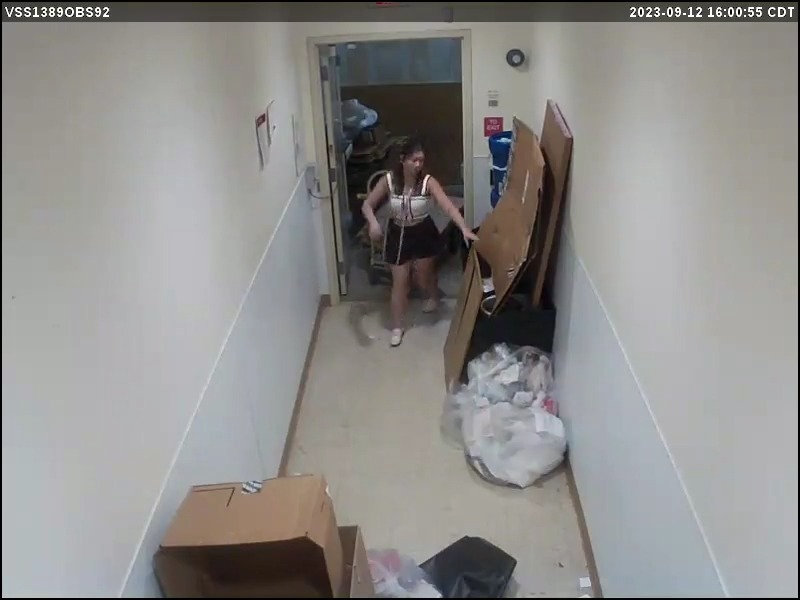No-gloves: (455, 220, 484, 251), (362, 215, 386, 244)
